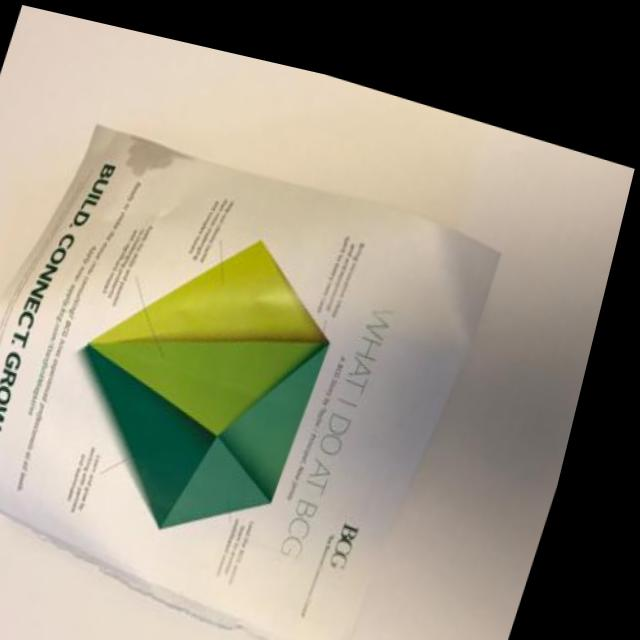paper: (0, 47, 556, 640)
